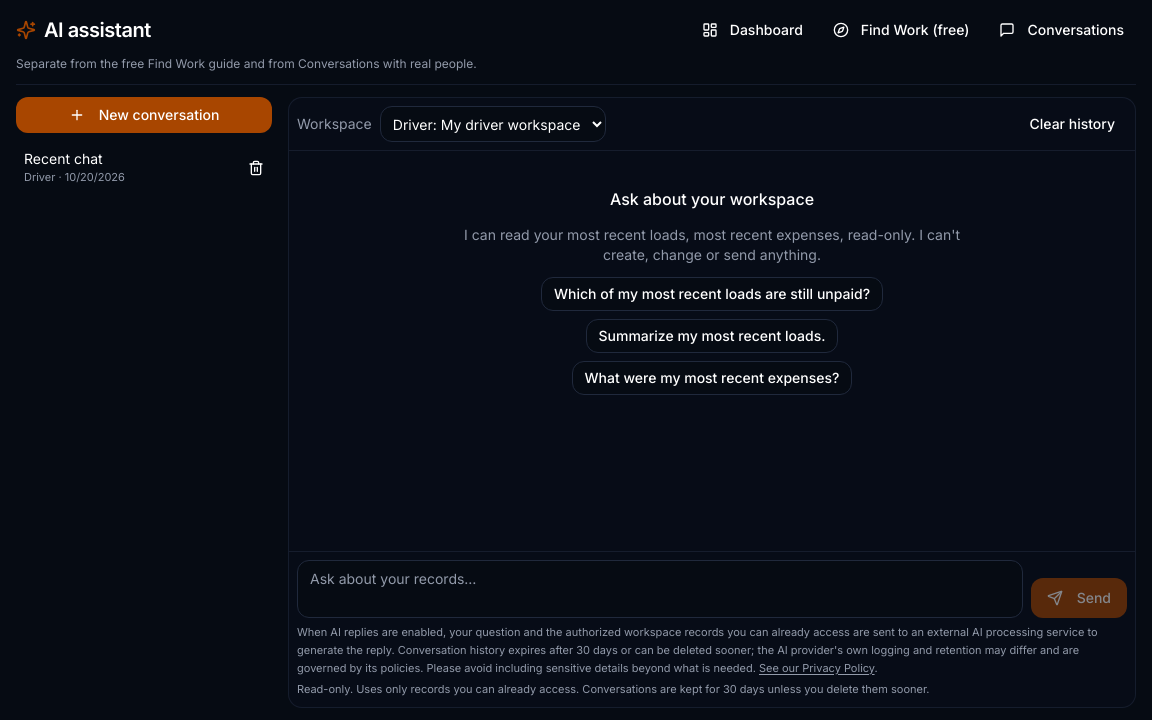
AI assistant page › delete and clear require explicit confirmation identifying scope
What coordinates should you click on to do the following:
click the button named "Delete conversation Recent chat"
I would click on:
 (256, 168)
Its box is [240,152,272,184].
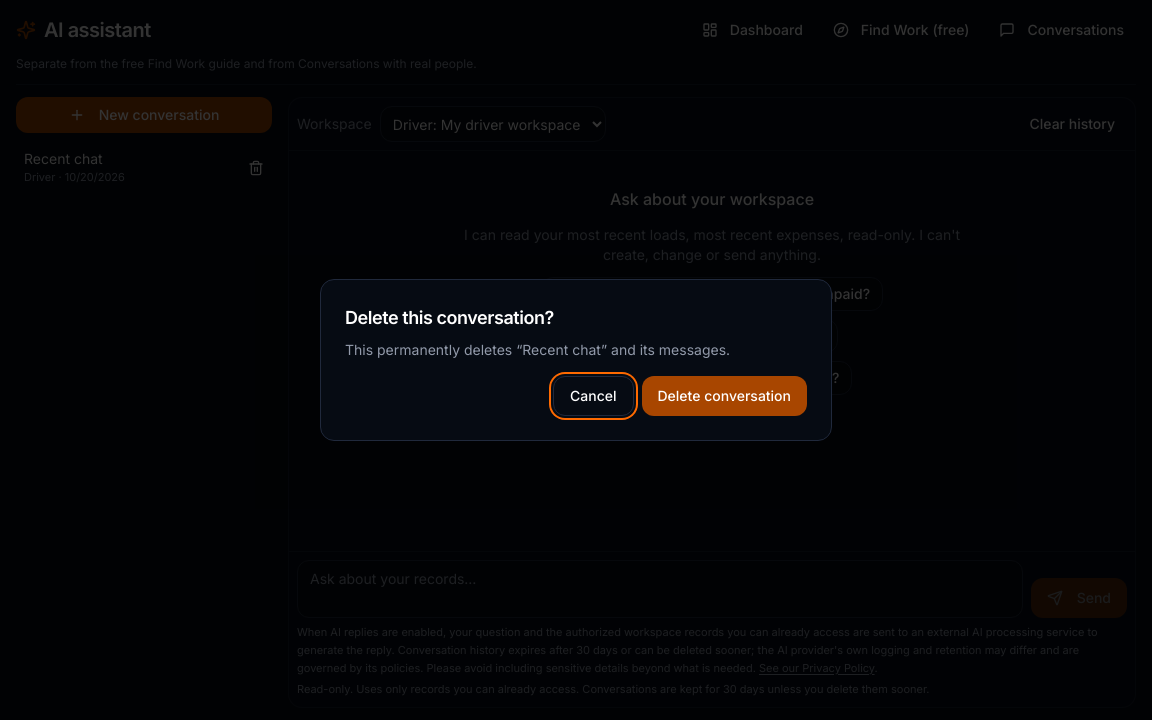
Result: the text "This permanently deletes “Recent chat” and its messages." is shown at [345,341,730,358]
What coordinates should you click on to do the following:
click the button "Cancel"
I would click on:
 (593, 396)
Its box is [553,376,634,416].
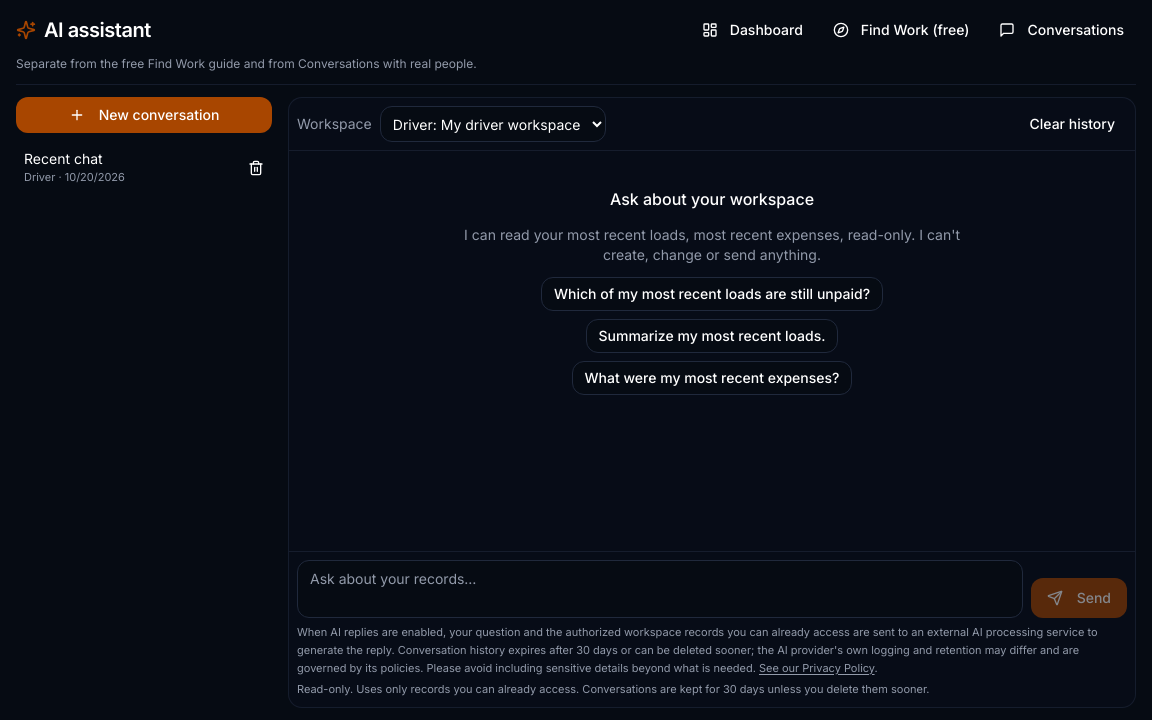
What coordinates should you click on to do the following:
click the button "Clear history"
I would click on:
 (1072, 124)
Its box is [1018,106,1127,142].
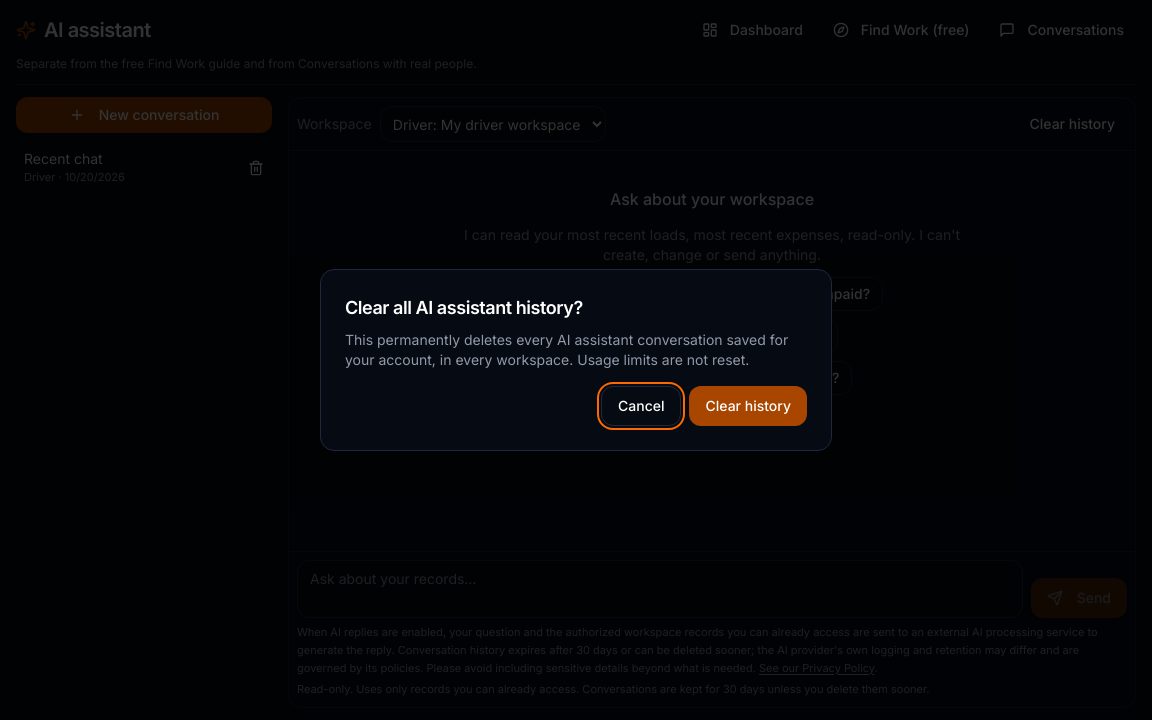
Result: the text "every AI assistant conversation saved for your account, in every workspace" is shown at [345,331,788,368]
What coordinates should you click on to do the following:
click the button "Clear history"
I would click on:
 (748, 406)
Its box is [690,386,807,426].
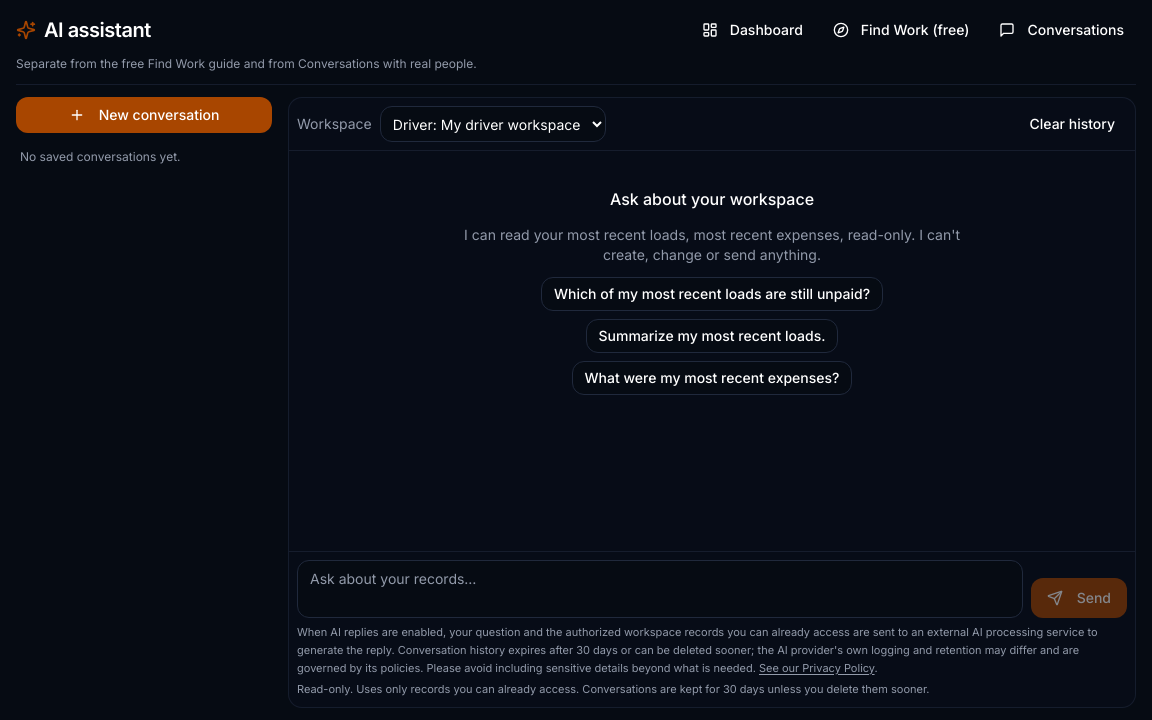
Result: the button "Recent chat" is gone
